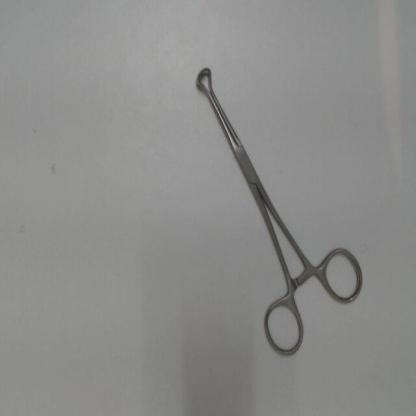Babcock Tissue Forceps: (192, 58, 368, 361)
